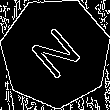N_SE: (24, 20, 87, 85)
